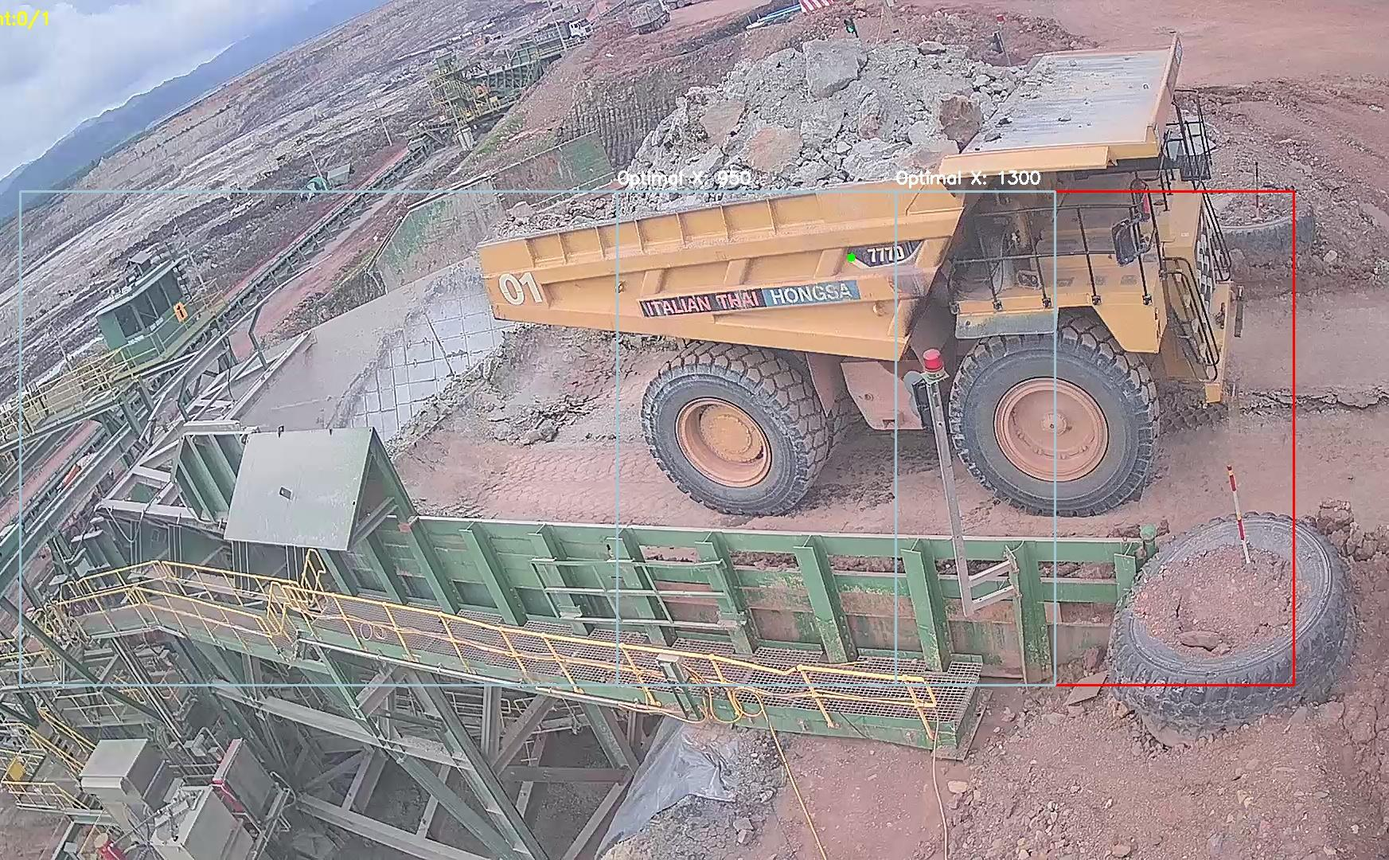company: (630, 270, 868, 322)
full_load: (669, 32, 952, 199)
mining_truck: (471, 14, 1251, 521)
tail_number: (488, 259, 557, 317)
truck_size: (836, 240, 929, 266)
